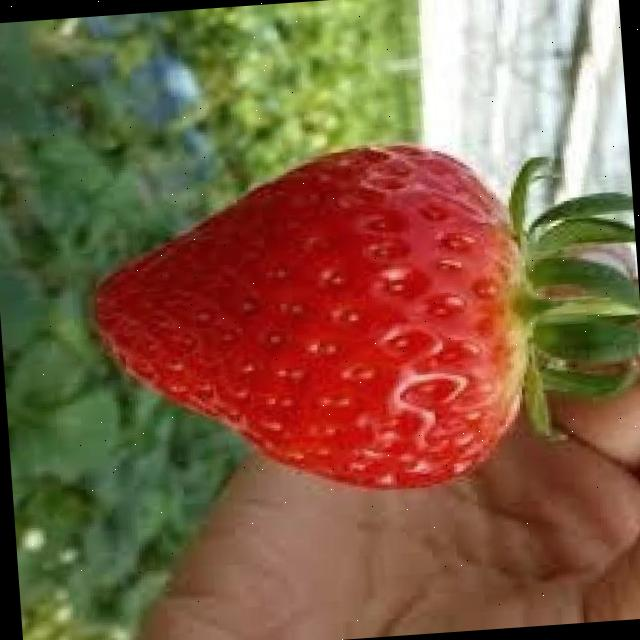strawberry: (82, 130, 543, 510)
